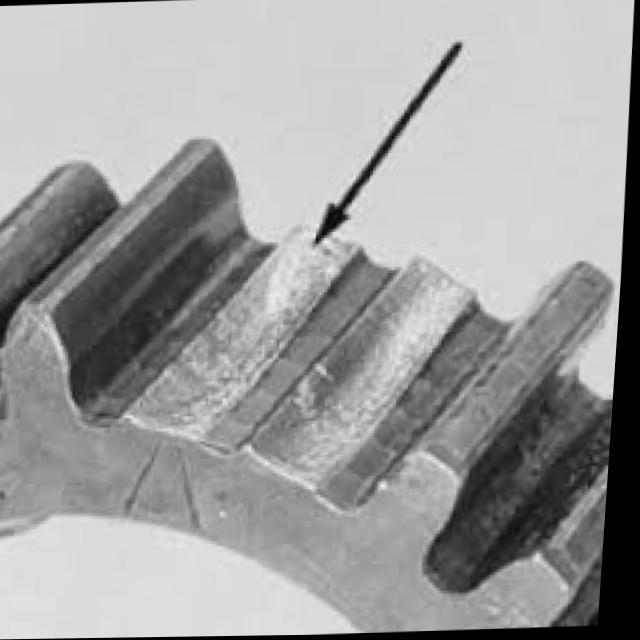Fault-Exist: (0, 99, 633, 628)
